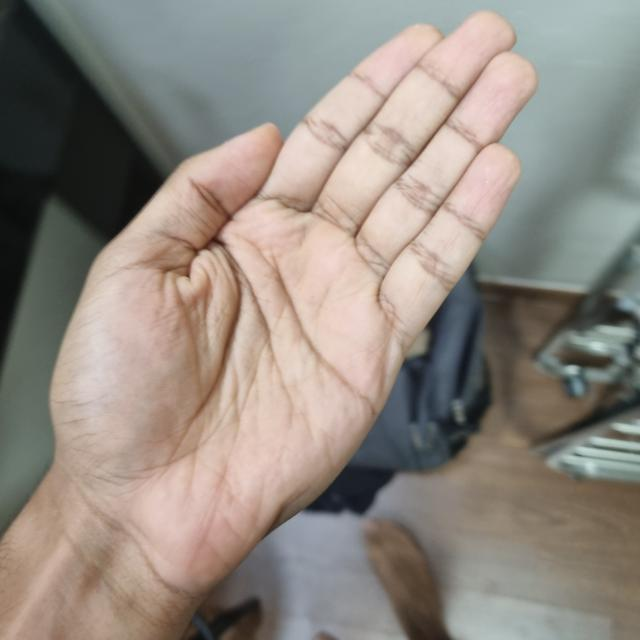Paper: (49, 12, 533, 574)
